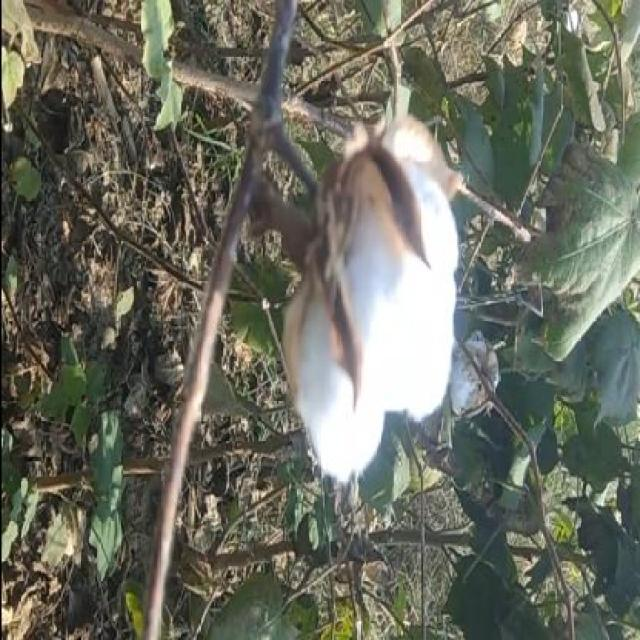cotton_ready: (223, 72, 471, 482)
